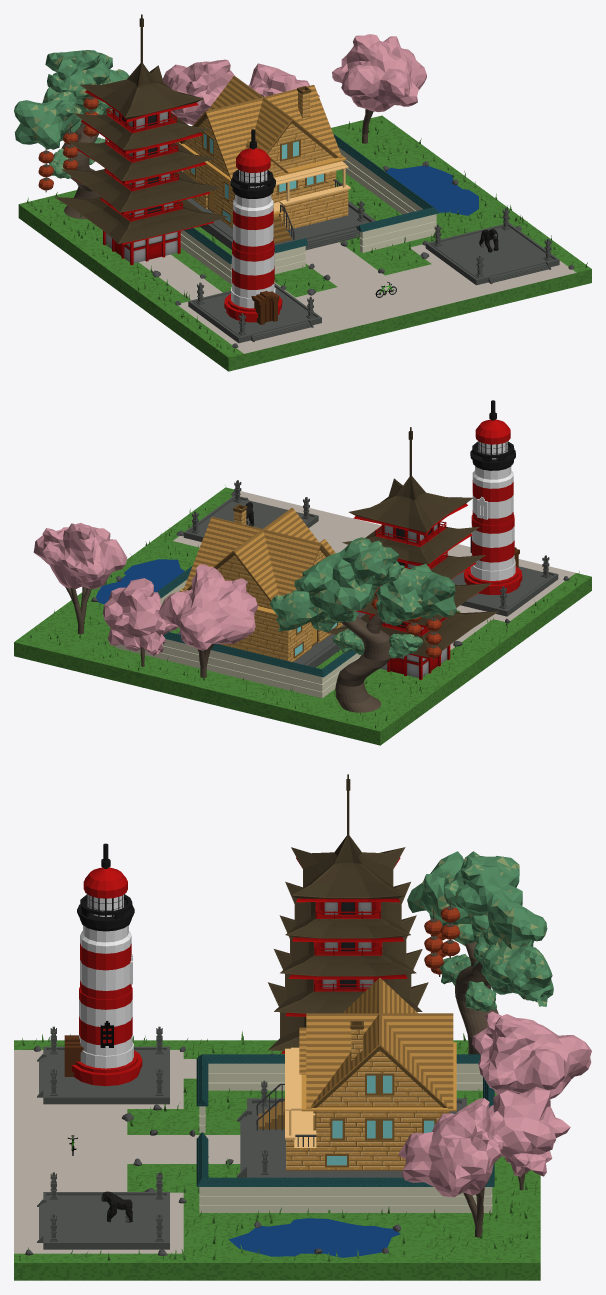
3 renders of one model, top to bottom at view 1: azimuth 30°, elevation 25°; view 2: azimuth 150°, elevation 25°; view 3: azimuth 270°, elevation 25°, orthographic. The views are drawn at different scales.
Parts seen in each view (by area): view 1: Cube.005, Cube.508, OBJRANDOM_LIGHTHOUSE; view 2: Cube.005, Cube.508, OBJRANDOM_LIGHTHOUSE; view 3: Cube.005, Cube.508, OBJRANDOM_LIGHTHOUSE.
Boxes of the visible parts, x1,y1,x2,y2 form: Cube.005: (14, 14, 591, 371); Cube.508: (177, 76, 350, 243); OBJRANDOM_LIGHTHOUSE: (224, 129, 282, 324); Cube.005: (14, 427, 591, 745); Cube.508: (179, 504, 343, 661); OBJRANDOM_LIGHTHOUSE: (464, 400, 522, 594); Cube.005: (14, 774, 591, 1280); Cube.508: (256, 978, 456, 1170); OBJRANDOM_LIGHTHOUSE: (64, 843, 142, 1086).
Size of the model in its own units: 4528 by 2706 by 4389.
Materials: 41 (6 with a texture image).
